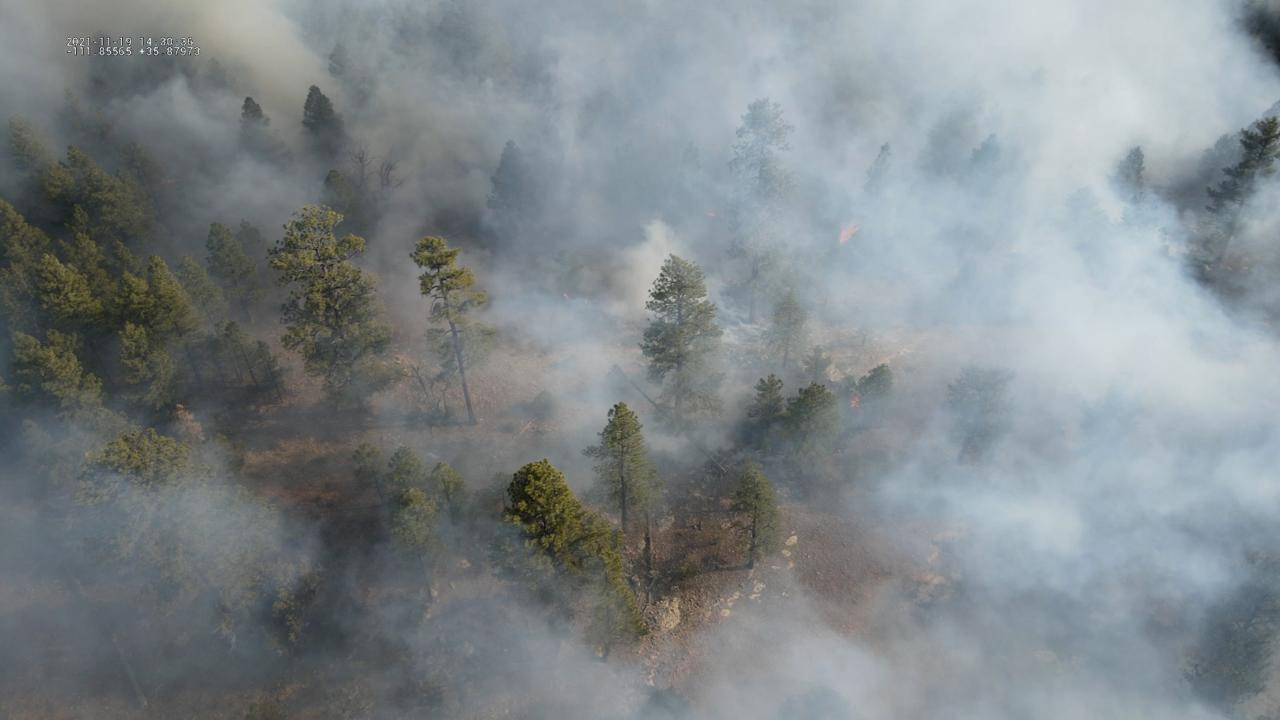fire: (838, 220, 861, 245), (849, 395, 863, 411)
smoke: (0, 0, 1280, 720)
